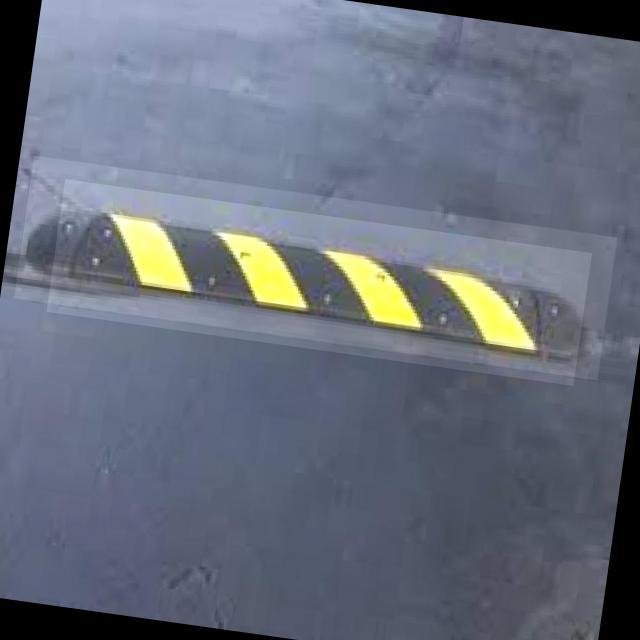bump: (46, 180, 592, 386)
